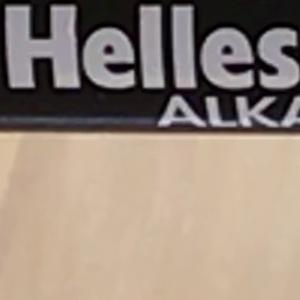keyword: (148, 86, 276, 137)
